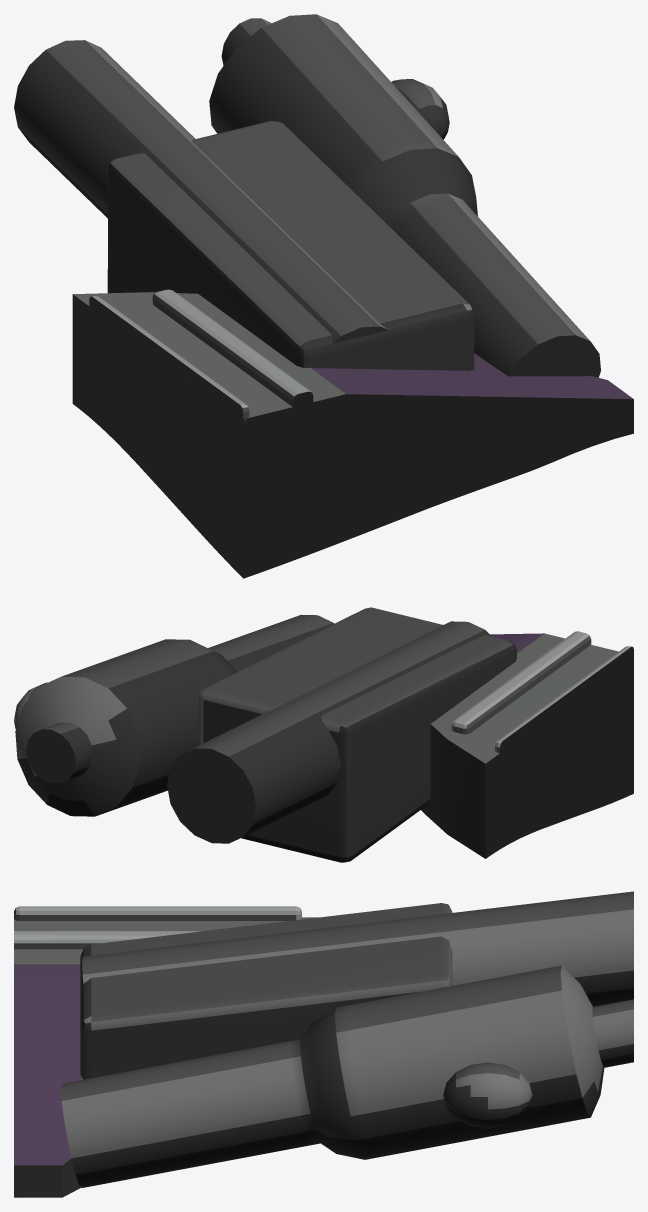
File: camanis_boss_85.glb
3 renders of one model, top to bottom at view 1: azimuth 30°, elevation 25°; view 2: azimuth 150°, elevation 25°; view 3: azimuth 270°, elevation 25°, orthographic. The views are drawn at different scales.
Parts seen in each view (by area): view 1: camanis_boss_85; view 2: camanis_boss_85; view 3: camanis_boss_85.
Part boxes in pixels (<box>): camanis_boss_85: <box>14,14,633,578</box>; camanis_boss_85: <box>14,607,633,862</box>; camanis_boss_85: <box>14,891,633,1197</box>.
Size of the model in its own units: 22 by 12.35 by 28.
